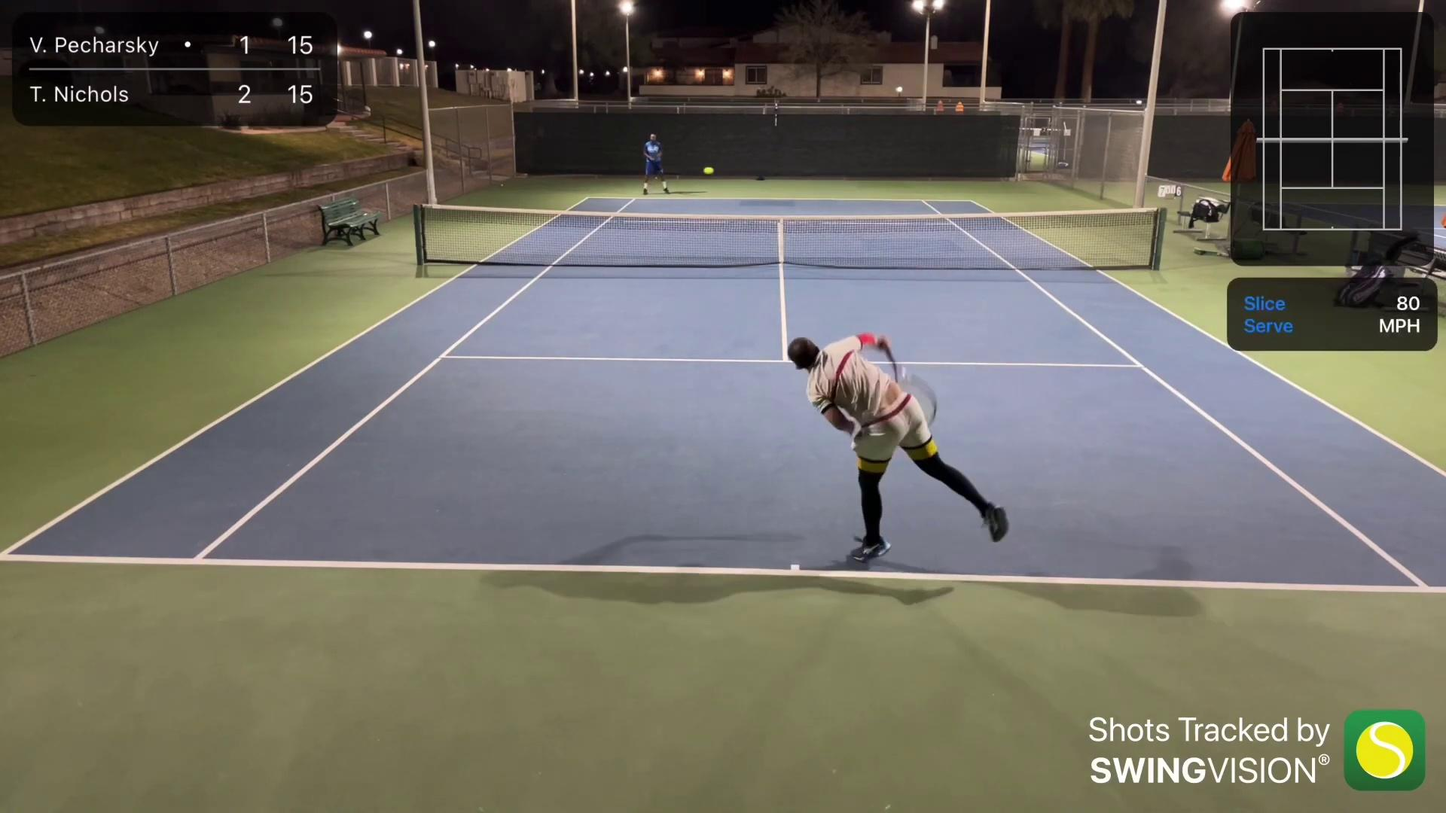ball: (702, 164, 717, 177)
